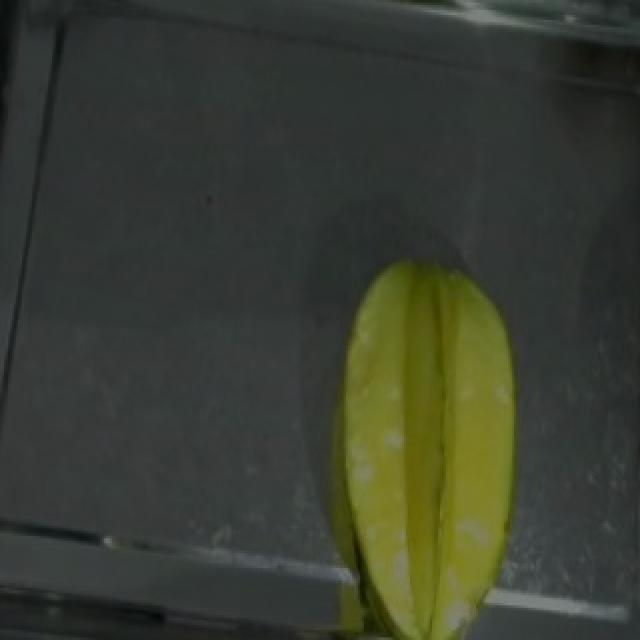fruit: (316, 243, 542, 640)
